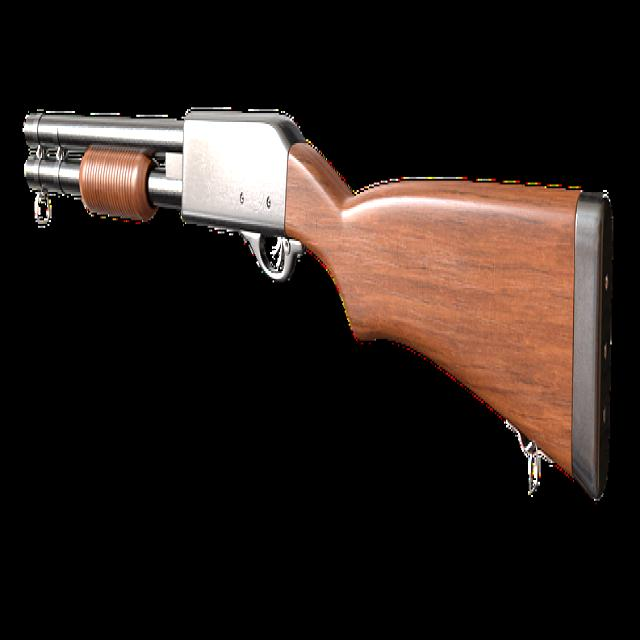shotgun: (18, 98, 620, 534)
